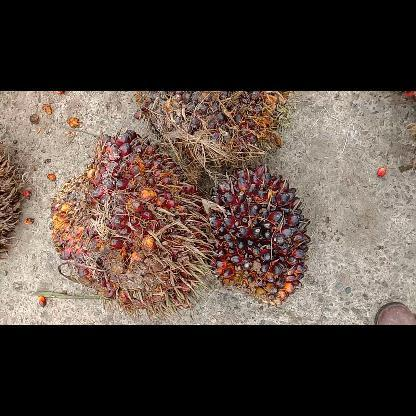Kurang masak: (212, 163, 310, 305), (133, 91, 291, 163)
TBS masak: (49, 130, 211, 318)
